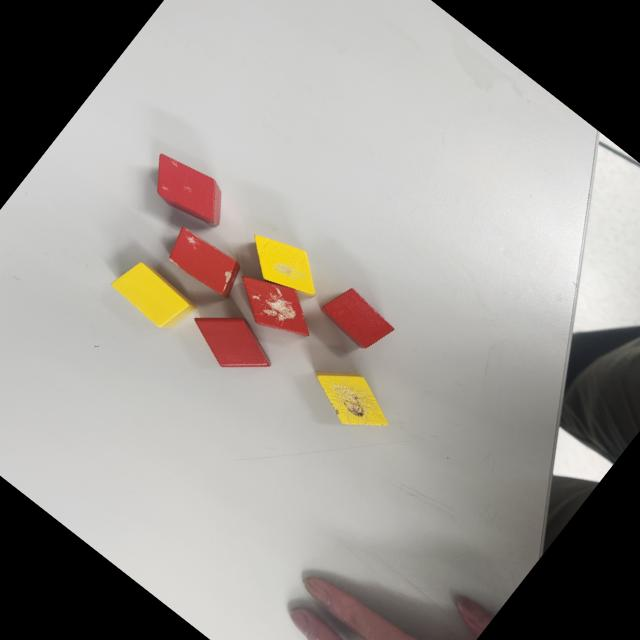broken: (224, 260, 327, 356), (136, 143, 238, 238), (300, 353, 399, 446), (236, 221, 334, 312), (160, 222, 250, 306)
red: (179, 294, 285, 394), (316, 280, 399, 358)
yellow: (106, 252, 200, 338)
